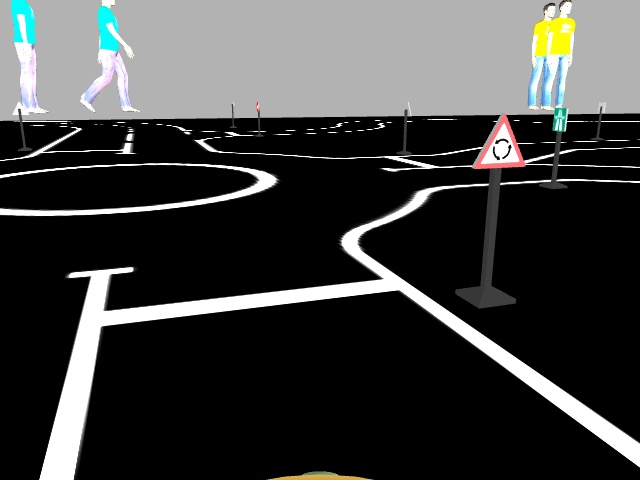HighwayEntrance: (550, 103, 569, 131)
Roundabout: (471, 114, 524, 170)
